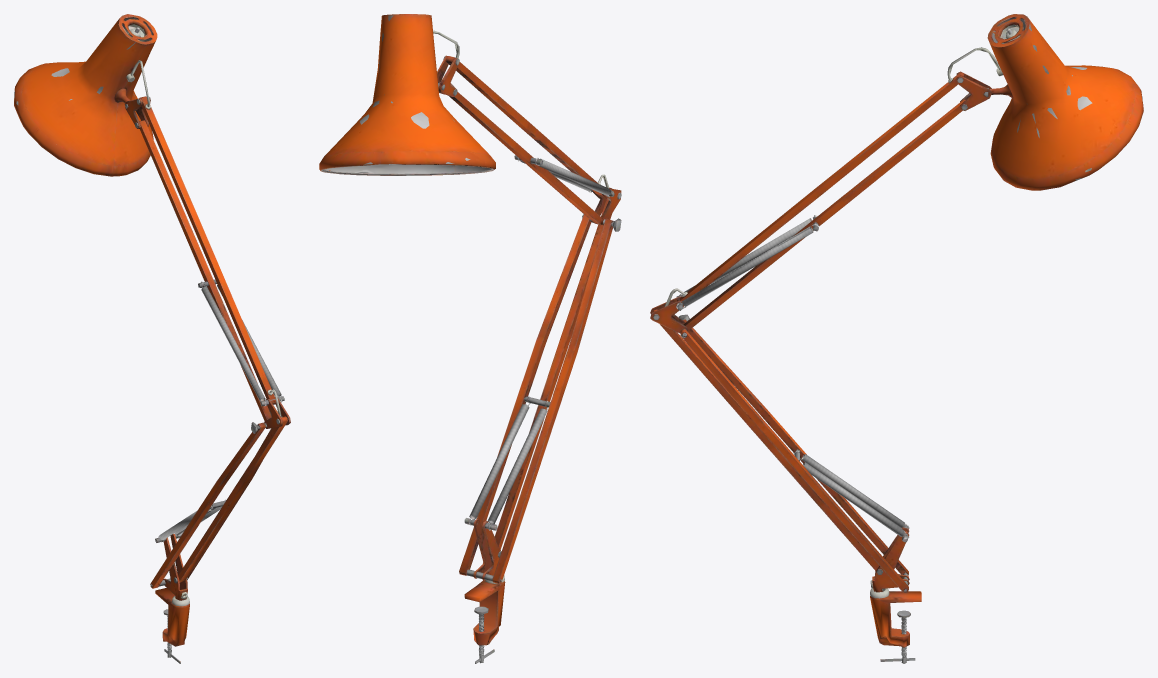
Rendered from task-lamp.glb.
3 renders of one model, left to right at view 1: azimuth 30°, elevation 25°; view 2: azimuth 150°, elevation 25°; view 3: azimuth 270°, elevation 25°, orthographic. The views are drawn at different scales.
Visible parts, largest first — view 1: desk_lamp_arm_01; view 2: desk_lamp_arm_01; view 3: desk_lamp_arm_01.
Part boxes in pixels (x1,y1,x2,y2): desk_lamp_arm_01: (14,14,290,663); desk_lamp_arm_01: (319,14,621,663); desk_lamp_arm_01: (650,14,1143,663).
Bounding box in the file's own units: 0.2017 × 0.8926 × 0.6133.
2 materials, 2 textured.
